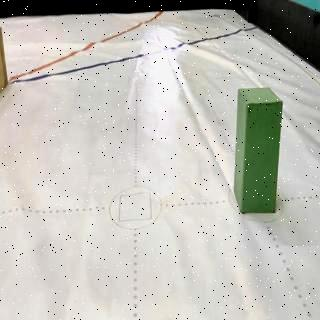greenbox: (236, 85, 284, 215)
